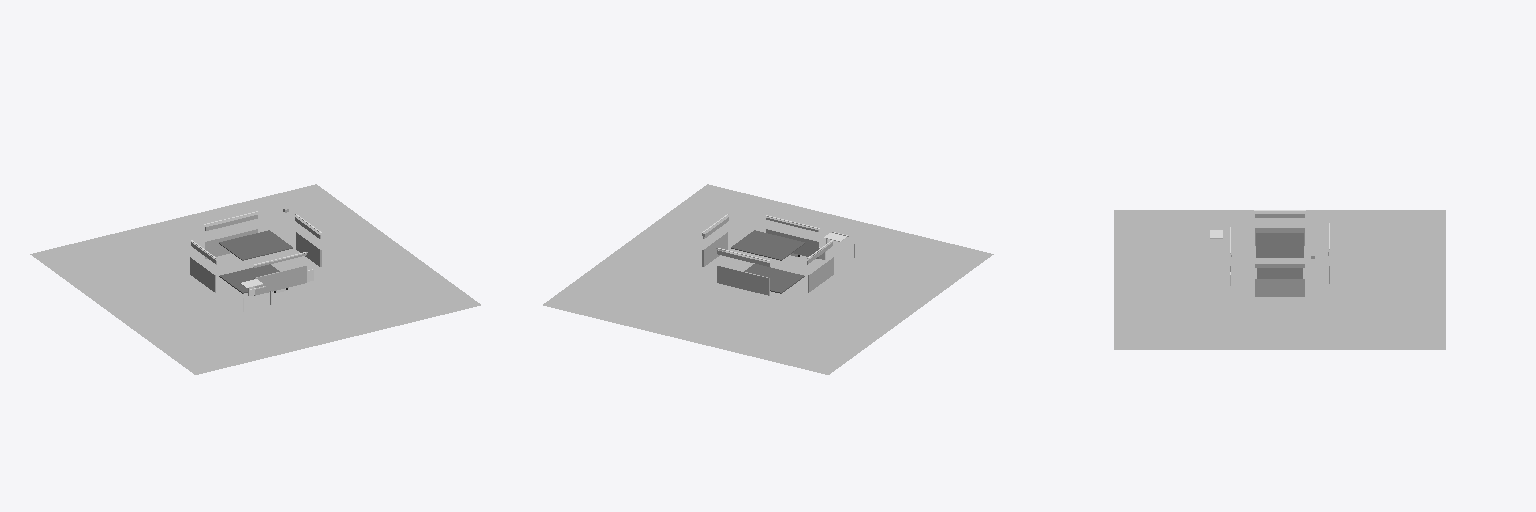
Rendered from house.obj.
3 renders of one model, left to right at view 1: azimuth 30°, elevation 25°; view 2: azimuth 150°, elevation 25°; view 3: azimuth 270°, elevation 25°, orthographic.
Visible parts, largest first — view 1: Ground, Roof_Flat, Wall_Front, Floor_Interior; view 2: Ground, Roof_Flat, Wall_Rear, Floor_Interior; view 3: Ground, Roof_Flat, Wall_Right.
Part boxes in pixels (bbox=[...]): Ground: bbox=[30, 184, 480, 374]; Roof_Flat: bbox=[219, 230, 292, 260]; Wall_Front: bbox=[254, 265, 306, 295]; Floor_Interior: bbox=[219, 264, 279, 293]; Ground: bbox=[543, 184, 993, 374]; Roof_Flat: bbox=[731, 230, 804, 260]; Wall_Rear: bbox=[717, 265, 769, 295]; Floor_Interior: bbox=[744, 264, 804, 293]; Ground: bbox=[1114, 210, 1445, 349]; Roof_Flat: bbox=[1256, 233, 1303, 257]; Wall_Right: bbox=[1255, 279, 1304, 296].
Bounding box in the file's own units: 30 × 4.75 × 30.